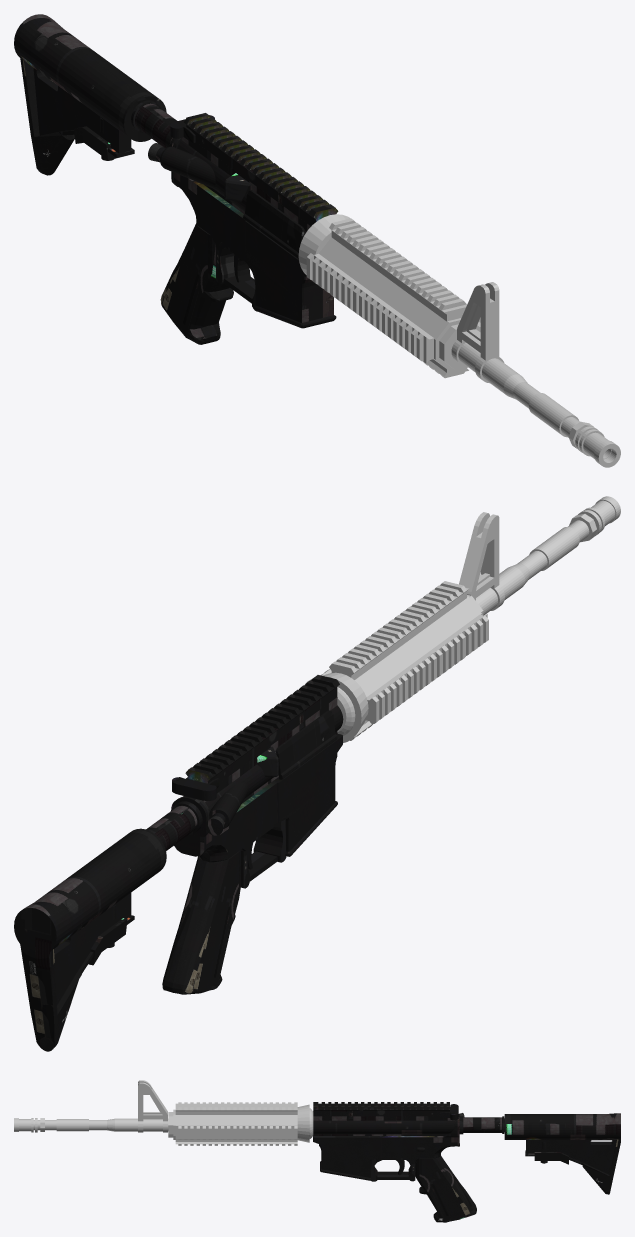
File: M4 Carbine 10k Triangulated Final.FBX
3 renders of one model, top to bottom at view 1: azimuth 30°, elevation 25°; view 2: azimuth 150°, elevation 25°; view 3: azimuth 270°, elevation 25°, orthographic. The views are drawn at different scales.
Parts seen in each view (by area): view 1: polySurface430, barrel, Stock; view 2: polySurface430, barrel, Stock; view 3: polySurface430, barrel, Stock.
Part boxes in pixels (<box>): polySurface430: <box>148,113,338,344</box>; barrel: <box>298,214,620,467</box>; Stock: <box>14,14,177,175</box>; polySurface430: <box>162,675,343,994</box>; barrel: <box>304,496,620,742</box>; Stock: <box>14,801,202,1051</box>; polySurface430: <box>313,1102,476,1222</box>; barrel: <box>14,1080,313,1145</box>; Stock: <box>459,1113,620,1194</box>.
Bounding box in the file's own units: 0.2815 × 0.9732 × 3.87.
